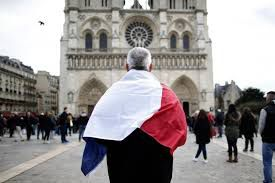French Flag: (80, 69, 187, 175)
